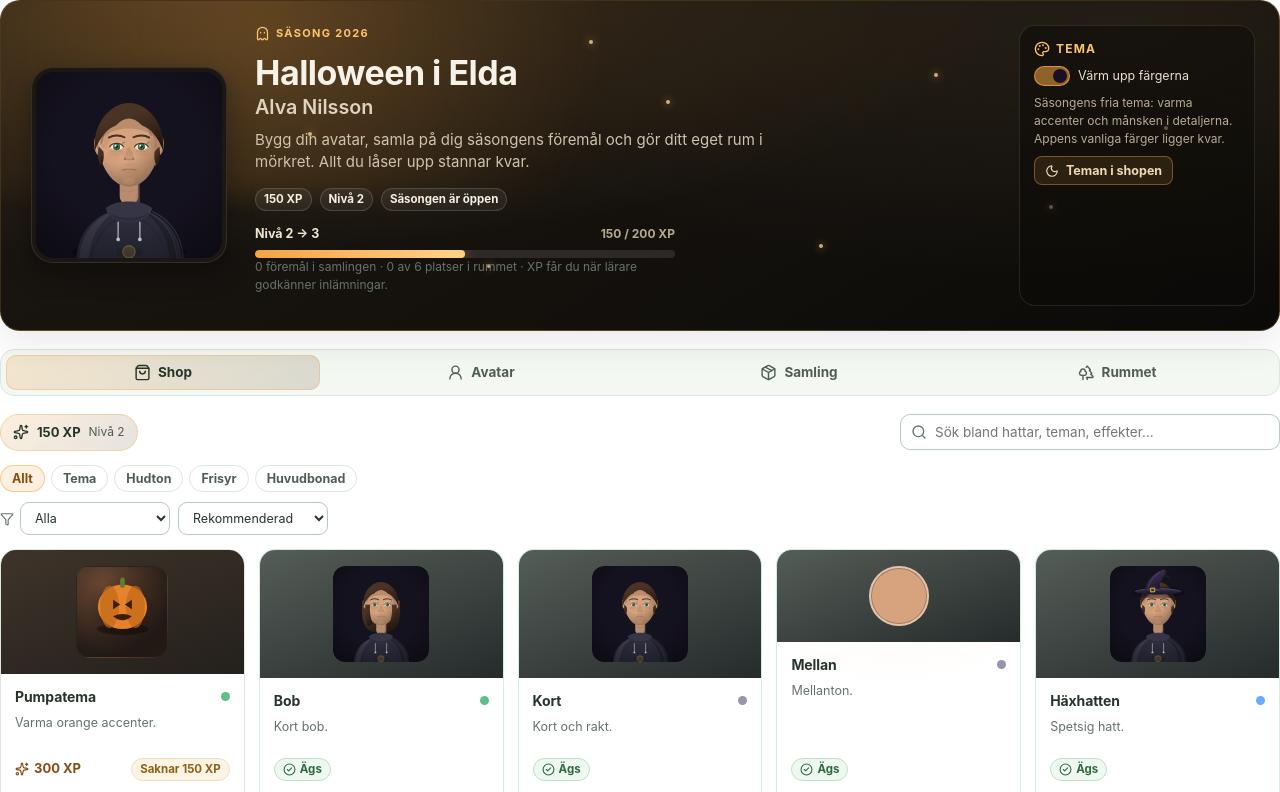
Halloween-området › stänger av köp när saldot inte räcker
This screenshot has width=1280, height=792.
Step 1. Click the button named "Visa Pumpatema" → (122, 612), box [1,550,244,674]
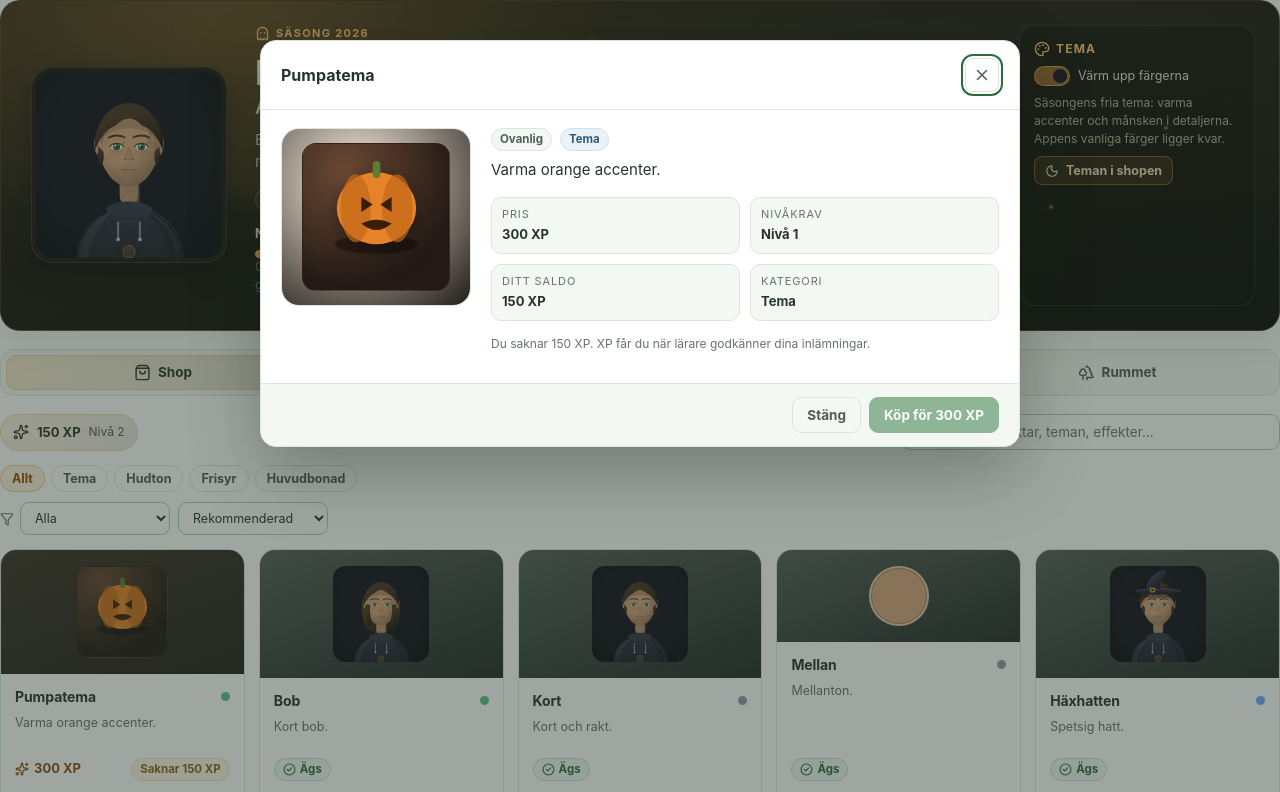
Now the button "Köp för 300 XP" is disabled, box [869,397,999,433]
